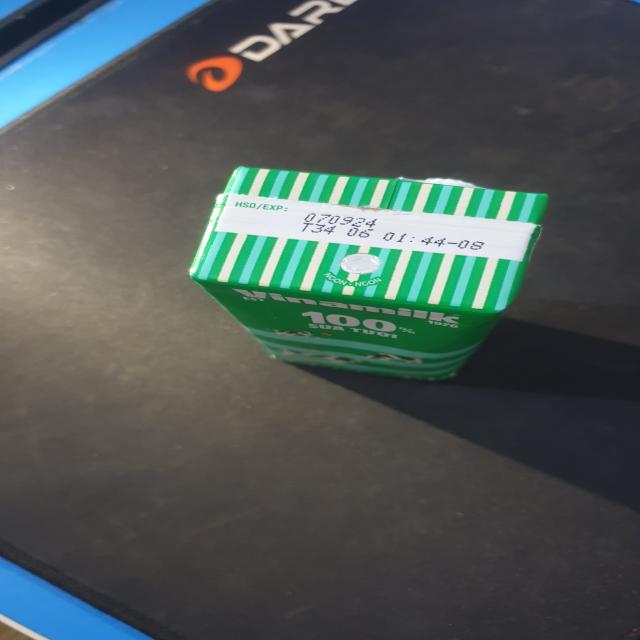Vina: (185, 164, 556, 385)
